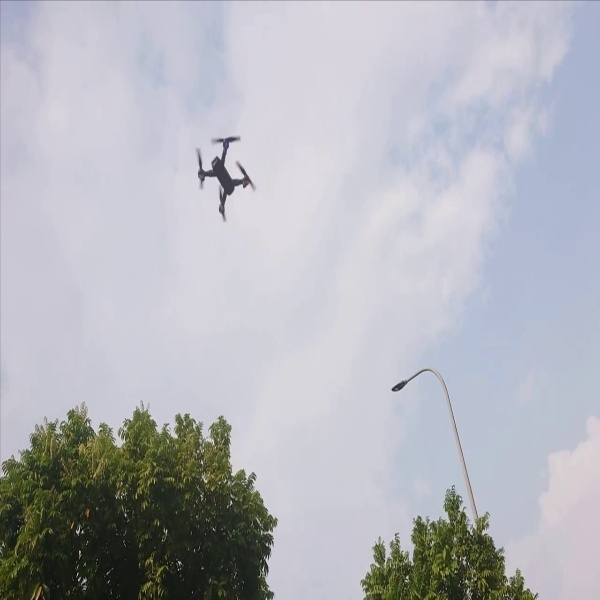drone: (186, 128, 263, 224)
